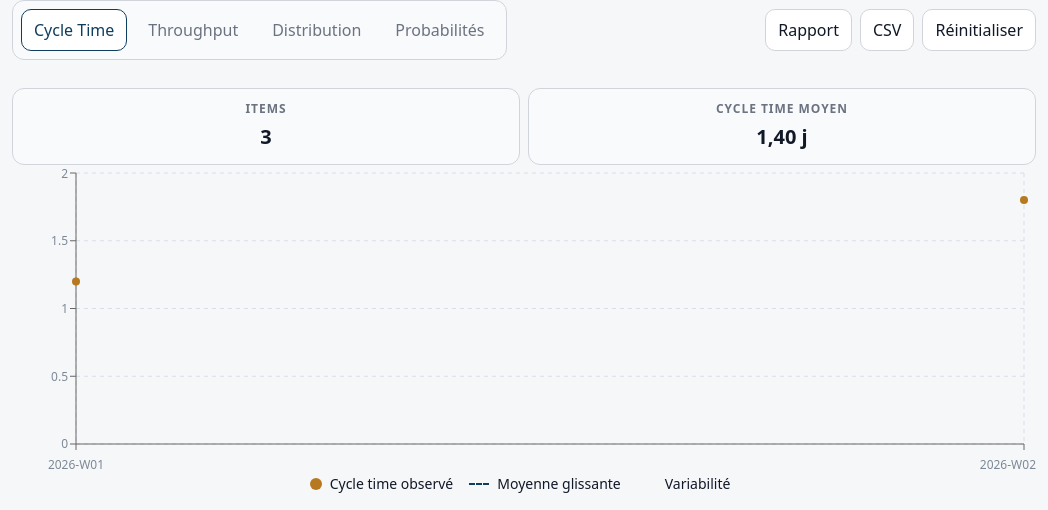
SimulationChartTabs › does not export a report twice while the first export is still pending
Click the button "Rapport" at (809, 30), box [765,9,852,51]
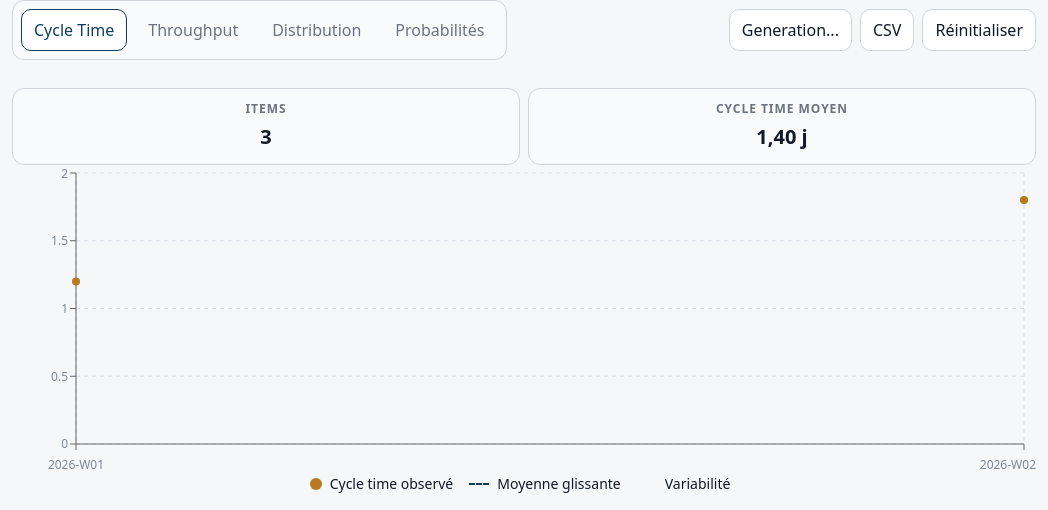
Click the button "Generation..." at (790, 30), box [729,9,852,51]
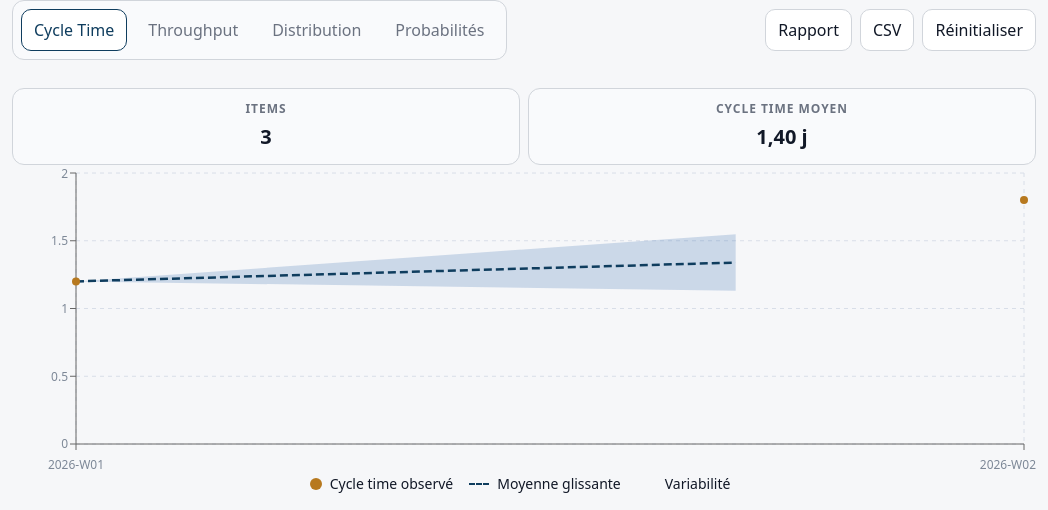
Expected: the button "Rapport" is enabled, [765,9,852,51]
